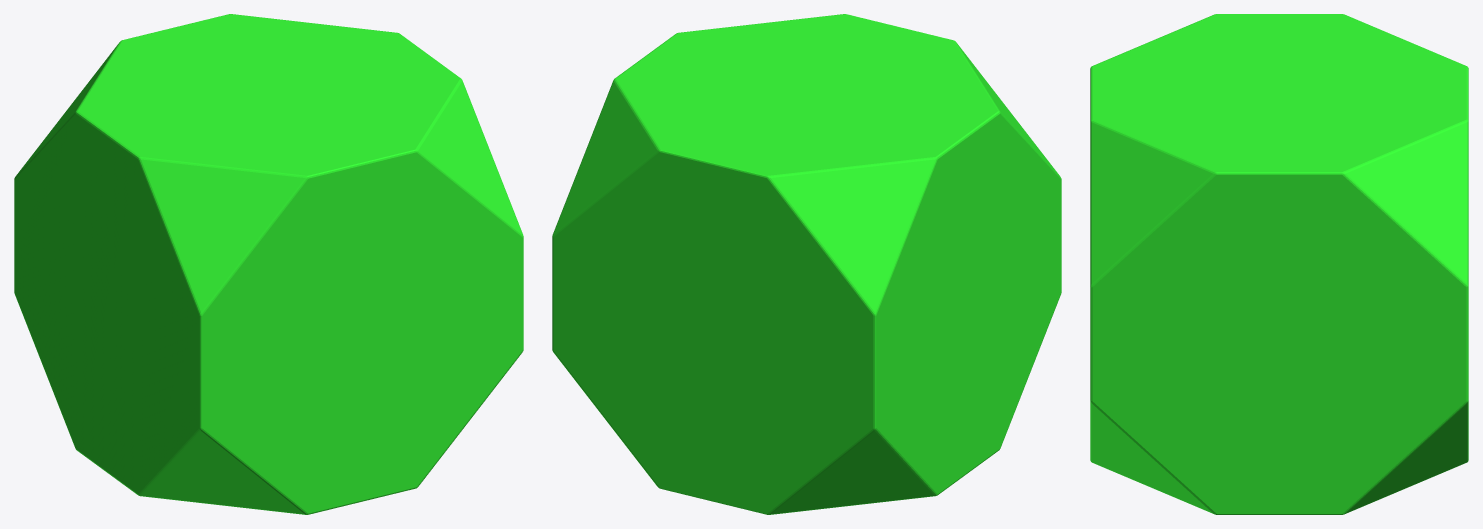
Rendered from Truncatedcube.obj.
3 views of the same model, side by side, from view 1: azimuth 30°, elevation 25°; view 2: azimuth 150°, elevation 25°; view 3: azimuth 270°, elevation 25° (orthographic).
Parts seen in each view (by area): view 1: Truncatedcube; view 2: Truncatedcube; view 3: Truncatedcube.
Part boxes in pixels (box(x1,y1,x2,y2)): Truncatedcube: box(14, 14, 523, 514); Truncatedcube: box(552, 14, 1061, 514); Truncatedcube: box(1090, 14, 1468, 514).
Bounding box in the file's own units: 1 × 1 × 1.
